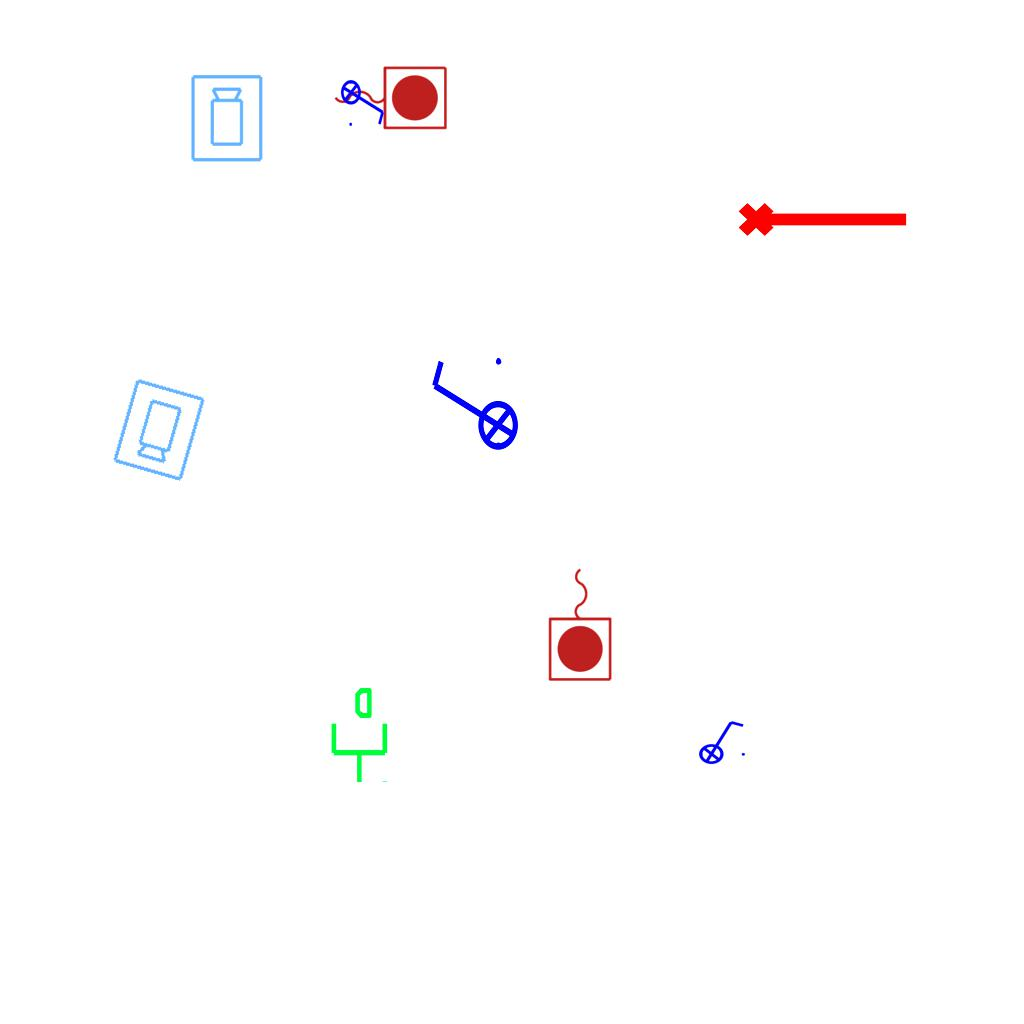ASR_Ansaugoeffnung: (736, 194, 912, 240)
Ausschalter_beleuchtet: (424, 352, 520, 464), (692, 717, 748, 765), (340, 73, 388, 129)
Datenanschluss_einfach: (323, 685, 392, 785)
KFO_Kamera_mit_Festobjektiv: (108, 375, 209, 484), (189, 73, 266, 164)
Zugtaster: (545, 563, 617, 685), (329, 61, 451, 133)
